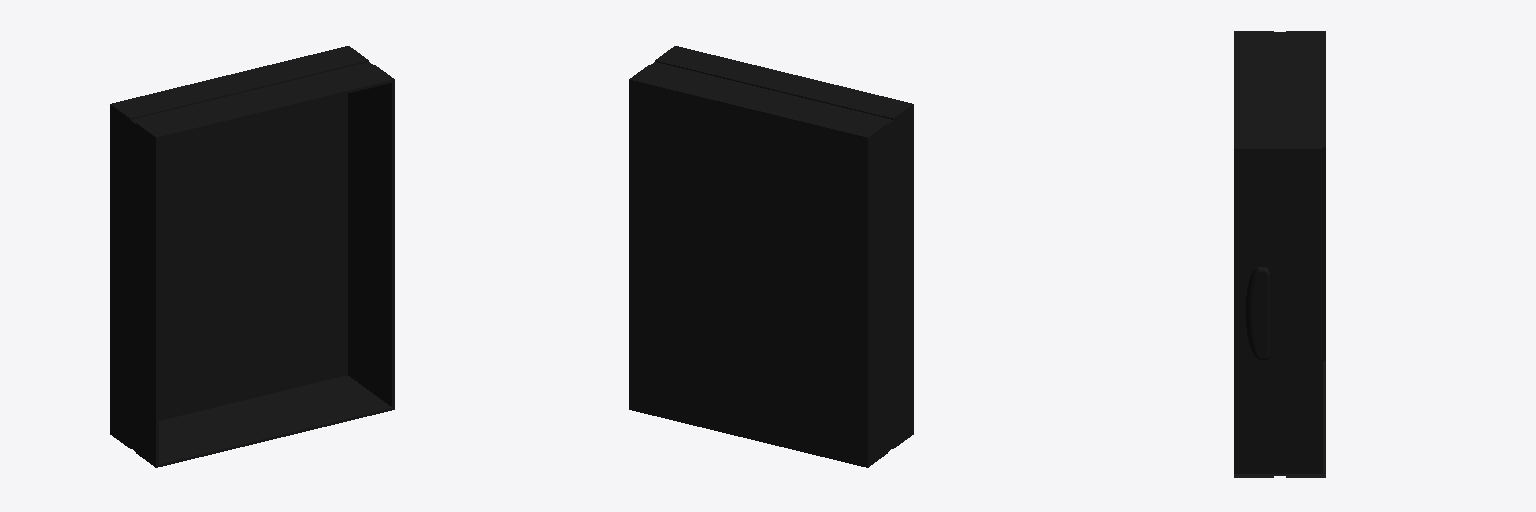
The model's file is dof_rootd_Ba001_t.obj.
The picture shows the model from 3 angles: view 1: azimuth 30°, elevation 25°; view 2: azimuth 150°, elevation 25°; view 3: azimuth 270°, elevation 25°; orthographic projection.
Visible parts, largest first — view 1: rootd_Ba001_g26__Geometry_0; view 2: rootd_Ba001_g26__Geometry_0; view 3: rootd_Ba001_g26__Geometry_0, rootd_Ba001_g24__Geometry_0.
Boxes of the visible parts, <box> form: rootd_Ba001_g26__Geometry_0: <box>110,46,394,467</box>; rootd_Ba001_g26__Geometry_0: <box>629,46,913,467</box>; rootd_Ba001_g26__Geometry_0: <box>1234,31,1325,477</box>; rootd_Ba001_g24__Geometry_0: <box>1246,267,1269,360</box>.
Bounding box in the file's own units: 0.3272 × 0.4204 × 0.1064.